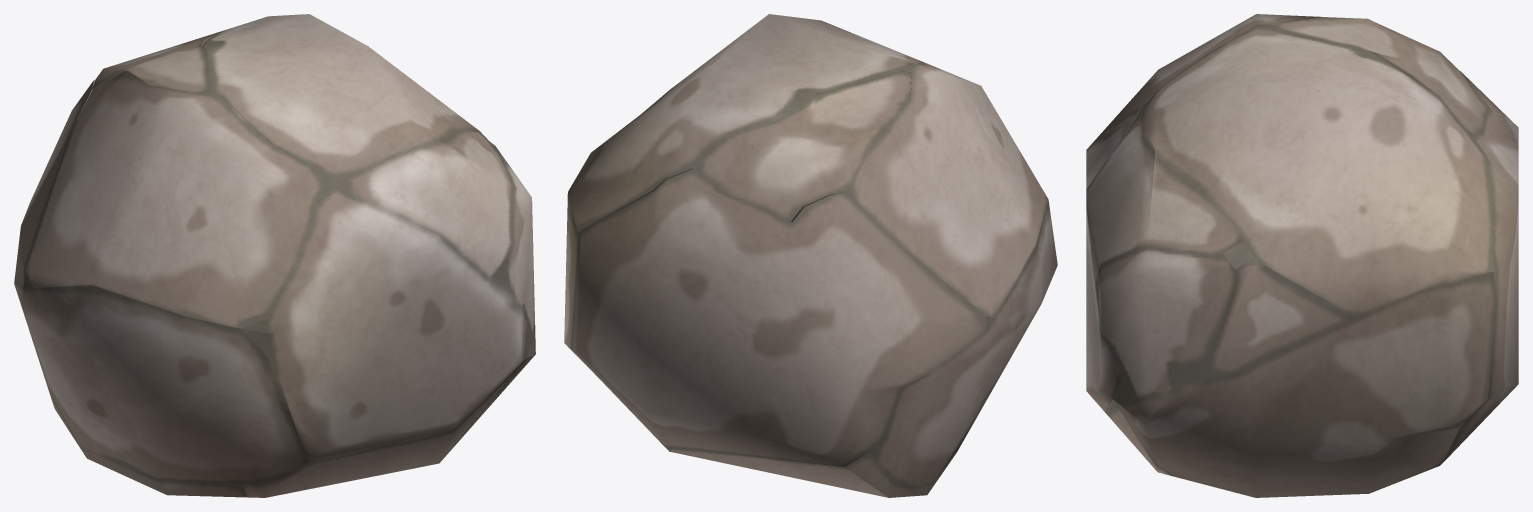
Rendered from Rock08.FBX.fbx.
3 views of the same model, side by side, from view 1: azimuth 30°, elevation 25°; view 2: azimuth 150°, elevation 25°; view 3: azimuth 270°, elevation 25° (orthographic). The views are drawn at different scales.
Visible parts, largest first — view 1: Group002, Box012; view 2: Group002, Box012; view 3: Group002.
Part boxes in pixels (x1,y1,x2,y2): Group002: (14,14,535,497); Box012: (49,392,246,497); Group002: (564,14,1057,484); Box012: (662,437,965,497); Group002: (1086,14,1518,497).
Size of the model in its own units: 81.79 by 77.57 by 75.22.
